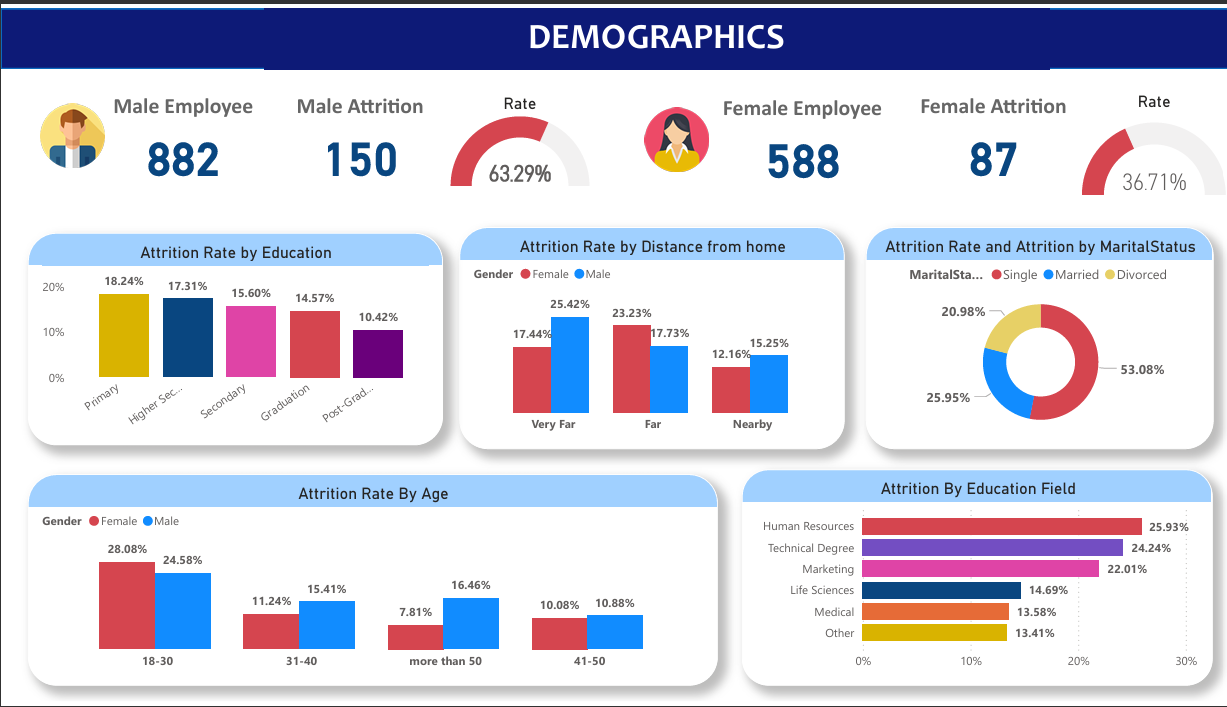

This screenshot's page, from the dashboard's own definition file:
{"tool":"powerbi","page":{"name":"Page 2","canvas":[1280,720],"ordinal":1},"visuals":[{"type":"gauge","title":"Rate","fields":{"Y":["Table.female attrition"]},"box":[457,88.4,166.3,101.2],"z":0},{"type":"gauge","title":"Rate","fields":{"Y":["Table.female attrition percent"]},"box":[1119.8,86,160.5,120.9],"z":1000},{"type":"shape","box":[0,0,1279.9,62.3],"z":2000},{"type":"textbox","box":[273.8,0,816.6,63.6],"z":3000},{"type":"clusteredColumnChart","title":"Attrition Age and Gender","fields":{"Category":["HR-Employee-Attrition.age range"],"Y":["Table.Attrition"],"Series":["HR-Employee-Attrition.Gender"]},"box":[12.4,484.5,445.1,219.7],"z":4000},{"type":"clusteredColumnChart","title":"Attrition by distance from home and Gender","fields":{"Category":["HR-Employee-Attrition.distance from home"],"Y":["Table.Attrition"],"Series":["HR-Employee-Attrition.Gender"]},"box":[515.1,211.6,424.4,246.5],"z":5000},{"type":"funnel","title":"Attrition By Education Field","fields":{"Category":["HR-Employee-Attrition.EducationField"],"Y":["Table.Attrition"]},"box":[862,484.5,410.1,219.7],"z":6000},{"type":"stackedAreaChart","title":"Attrition by Years At Company","fields":{"Category":["HR-Employee-Attrition.YearsAtCompany"],"Y":["Table.Attrition"]},"box":[0,211.6,495.4,246.5],"z":7000},{"type":"donutChart","title":"Attrition rate by Performance Rating","fields":{"Category":["HR-Employee-Attrition.PerformanceRating"],"Y":["Table.Attrition"]},"box":[478.9,484.5,367.3,219.7],"z":9000},{"type":"card","title":"Male Employee","fields":{"Values":["Table.male"]},"box":[106.3,85.6,167.5,101.5],"z":10000},{"type":"card","title":"Male Attrition","fields":{"Values":["Table.male attrition"]},"box":[289.7,85.6,167.5,101.5],"z":11000},{"type":"card","title":"Female Employee","fields":{"Values":["Table.female"]},"box":[745.7,88,176,101.5],"z":12000},{"type":"card","title":"Female Attrition","fields":{"Values":["Table.female attrition"]},"box":[948.6,85.6,167.5,101.5],"z":13000},{"type":"image","box":[661.3,97.8,84.3,77],"z":16000},{"type":"image","box":[34.2,94.1,80.7,77],"z":17000},{"type":"clusteredBarChart","fields":{"Category":["HR-Employee-Attrition.EnvironmentSatisfaction"],"Y":["Table.Attrition"]},"box":[958.1,211.6,322.1,246.5],"z":18000}]}

Visuals, with their boxes in screenshot pixels (x1, y1, x2, y2), scaled from the page's 1280x720 canvas onto the 1227x707 screenshot:
"Rate" gauge: pyautogui.locateOnScreen(438, 87, 597, 186)
"Rate" gauge: pyautogui.locateOnScreen(1073, 84, 1226, 203)
shape: pyautogui.locateOnScreen(0, 0, 1226, 61)
textbox: pyautogui.locateOnScreen(262, 0, 1045, 62)
"Attrition Age and Gender" clusteredColumnChart: pyautogui.locateOnScreen(12, 476, 439, 691)
"Attrition by distance from home and Gender" clusteredColumnChart: pyautogui.locateOnScreen(494, 208, 901, 450)
"Attrition By Education Field" funnel: pyautogui.locateOnScreen(826, 476, 1219, 691)
"Attrition by Years At Company" stackedAreaChart: pyautogui.locateOnScreen(0, 208, 475, 450)
"Attrition rate by Performance Rating" donutChart: pyautogui.locateOnScreen(459, 476, 811, 691)
"Male Employee" card: pyautogui.locateOnScreen(102, 84, 262, 184)
"Male Attrition" card: pyautogui.locateOnScreen(278, 84, 438, 184)
"Female Employee" card: pyautogui.locateOnScreen(715, 86, 884, 186)
"Female Attrition" card: pyautogui.locateOnScreen(909, 84, 1070, 184)
image: pyautogui.locateOnScreen(634, 96, 715, 172)
image: pyautogui.locateOnScreen(33, 92, 110, 168)
clusteredBarChart - HR-Employee-Attrition.EnvironmentSatisfaction x Table.Attrition: pyautogui.locateOnScreen(918, 208, 1226, 450)
